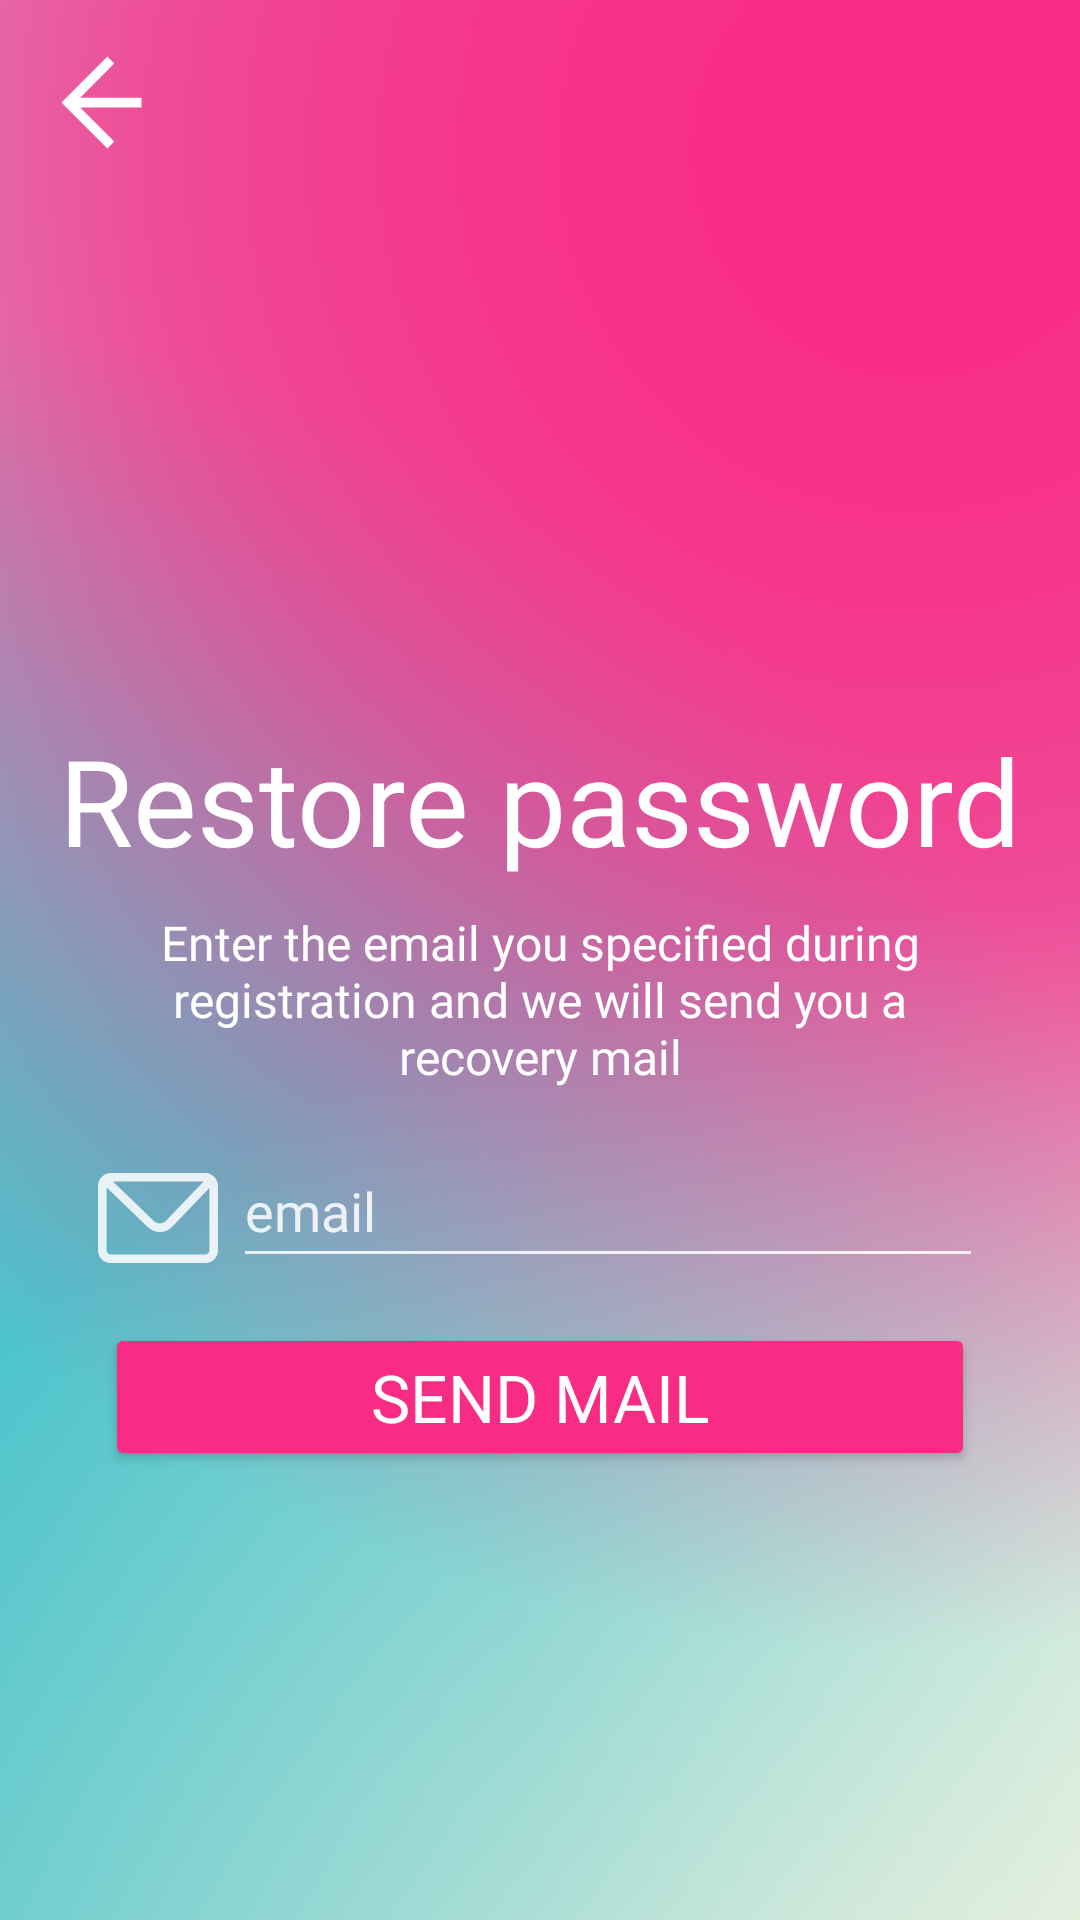

Locate icon controls on the screen. Image size 1080x1920, boxes as (x1, y1, x2, y2).
Go back in Sing in: (30, 30, 142, 174)
message: (98, 1158, 218, 1278)
